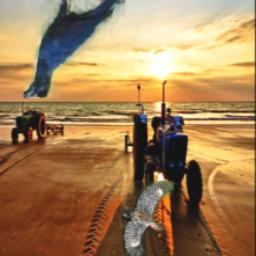Crow: (23, 0, 124, 98)
Woodpecker: (120, 181, 173, 256)
